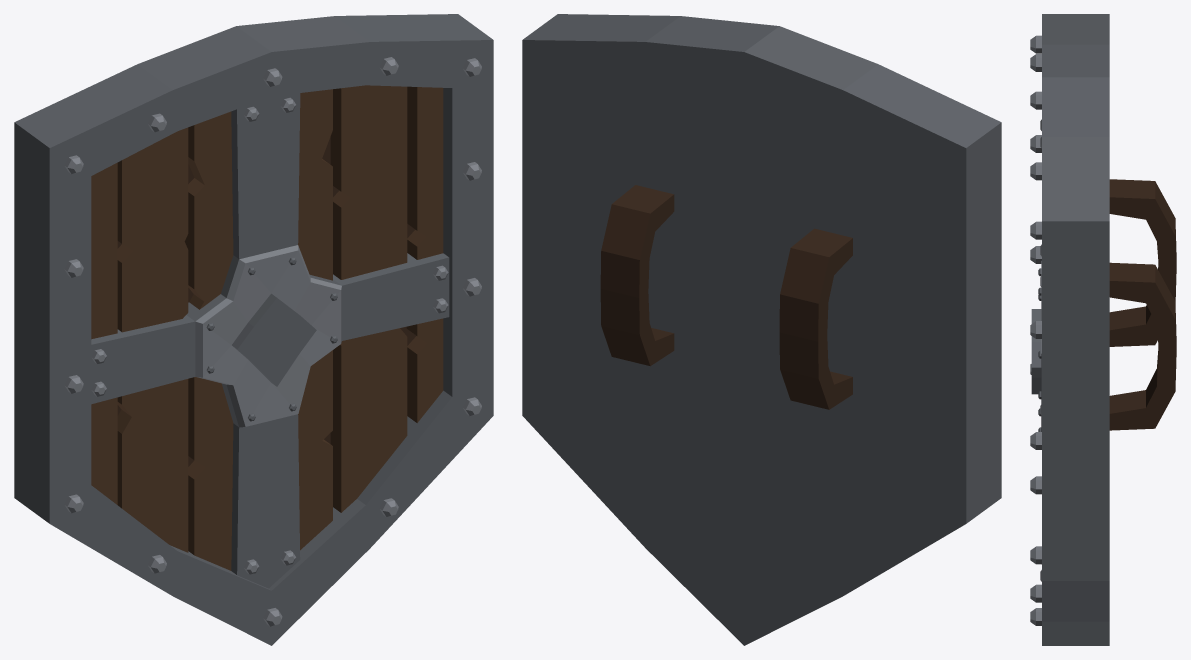
Rendered from shield.glb.
3 views of the same model, side by side, from view 1: azimuth 30°, elevation 25°; view 2: azimuth 150°, elevation 25°; view 3: azimuth 270°, elevation 25° (orthographic). The views are drawn at different scales.
Parts seen in each view (by area): view 1: Shield_Heater; view 2: Shield_Heater; view 3: Shield_Heater.
Part boxes in pixels (x1,y1,x2,y2): Shield_Heater: [14, 14, 493, 645]; Shield_Heater: [522, 14, 1001, 645]; Shield_Heater: [1030, 14, 1176, 645].
Size of the model in its own units: 0.6648 by 0.85 by 0.1979.
